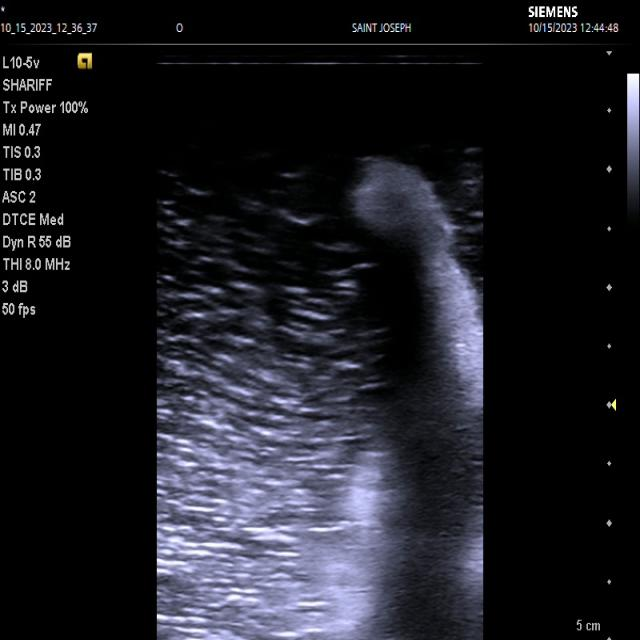tissue: (355, 157, 482, 640)
